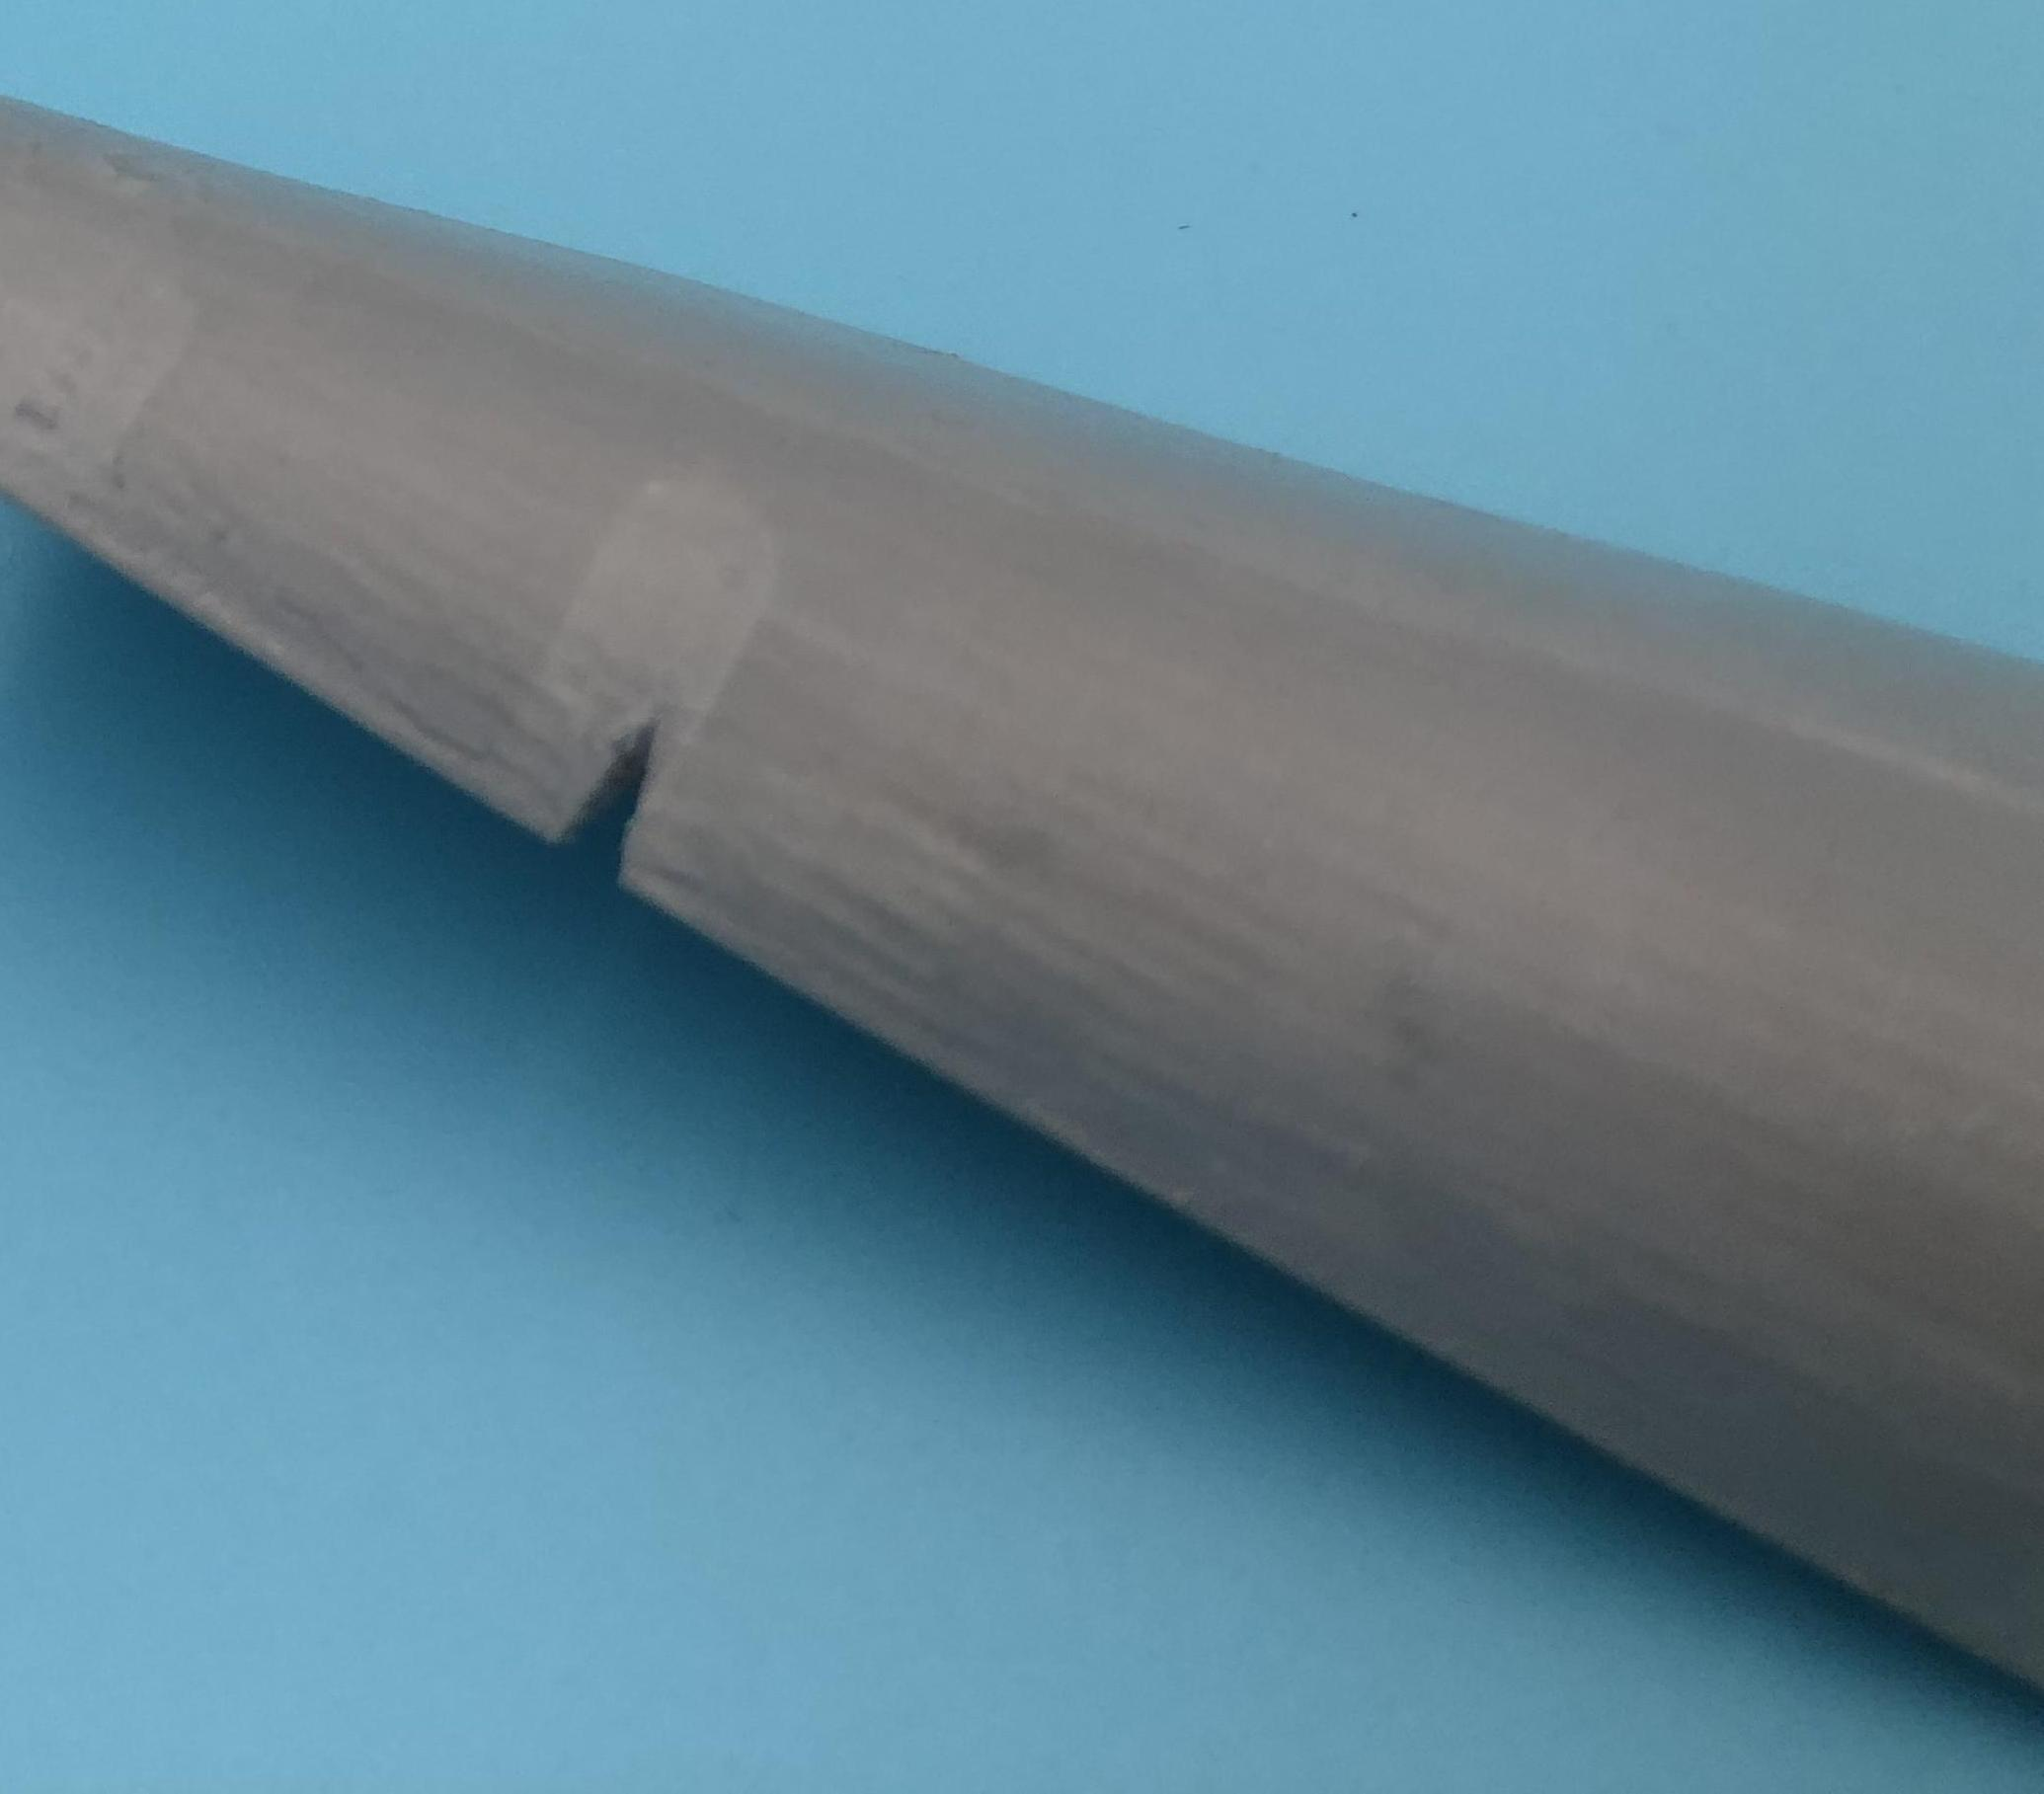groove: (539, 723, 688, 888)
